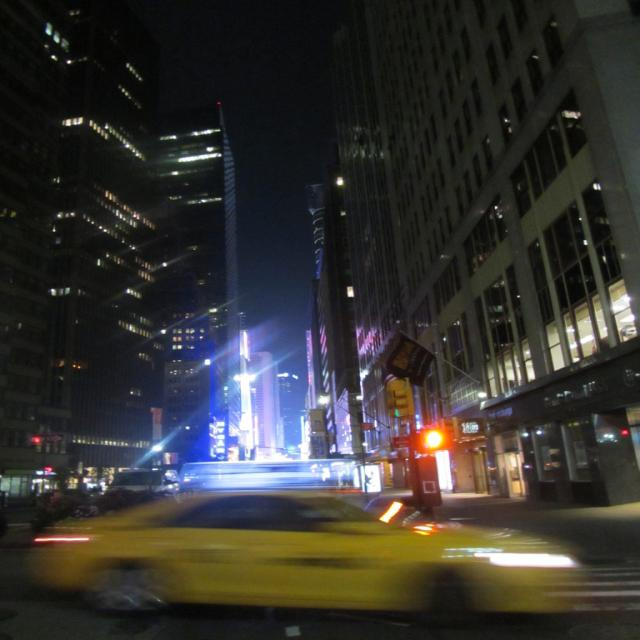car: (28, 480, 555, 626)
